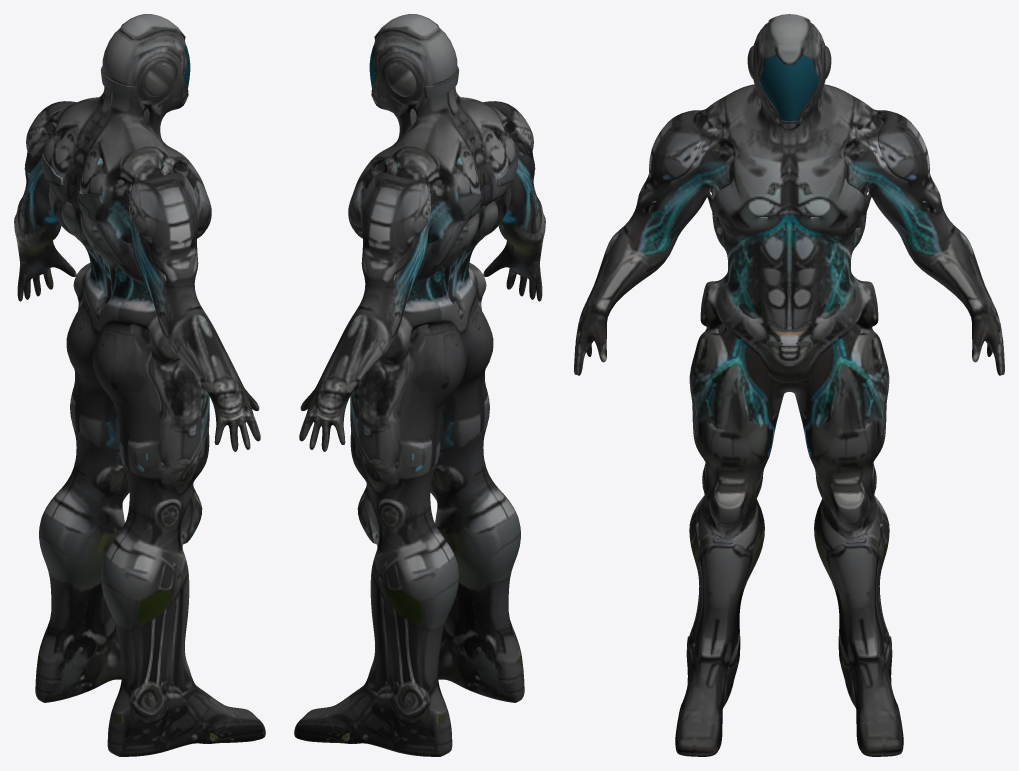
The model's file is futuristic_cybernet_warrior_high_detail_sci_fi.glb.
3 views of the same model, side by side, from view 1: azimuth 30°, elevation 25°; view 2: azimuth 150°, elevation 25°; view 3: azimuth 270°, elevation 25° (orthographic).
Visible parts, largest first — view 1: Warrior; view 2: Warrior; view 3: Warrior.
Part boxes in pixels (bbox=[...]): Warrior: bbox=[14, 14, 265, 756]; Warrior: bbox=[294, 14, 545, 756]; Warrior: bbox=[574, 14, 1004, 756].
Size of the model in its own units: 0.4041 by 1.83 by 1.01.
2 materials, 1 textured.
